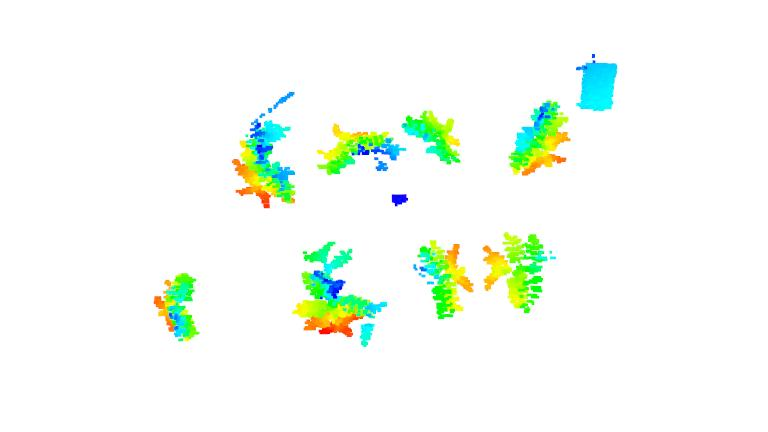chickpea: (295, 241, 389, 348), (232, 114, 298, 212), (477, 230, 553, 315), (409, 235, 477, 322), (313, 121, 401, 181), (508, 97, 572, 179), (153, 271, 207, 344), (400, 109, 463, 169)
